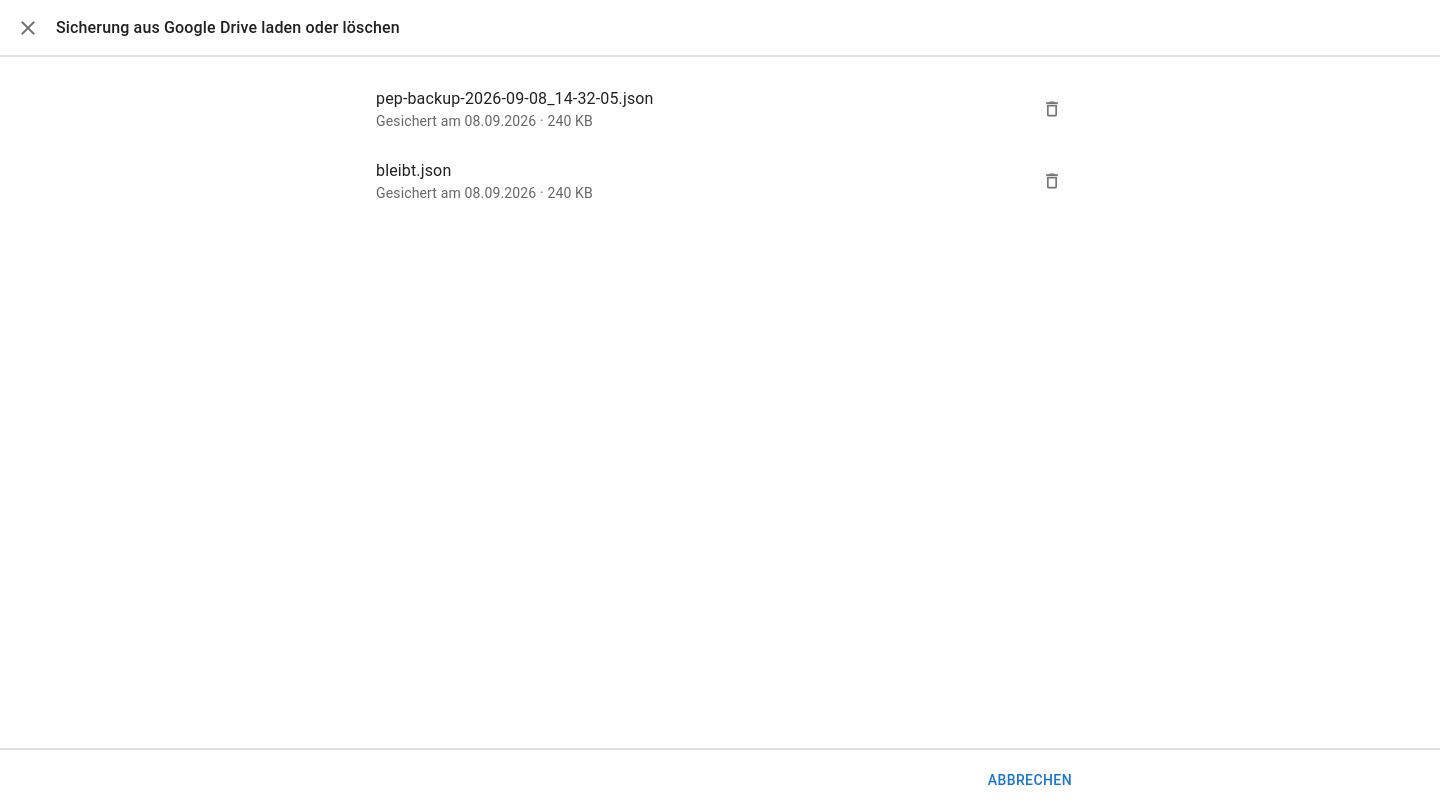
Scenario: DriveBackupDialog › deletes the confirmed backup and drops its row
Click the button named "pep-backup-2026-09-08_14-32-05.json löschen" at (1052, 109), box [1037,94,1067,124]
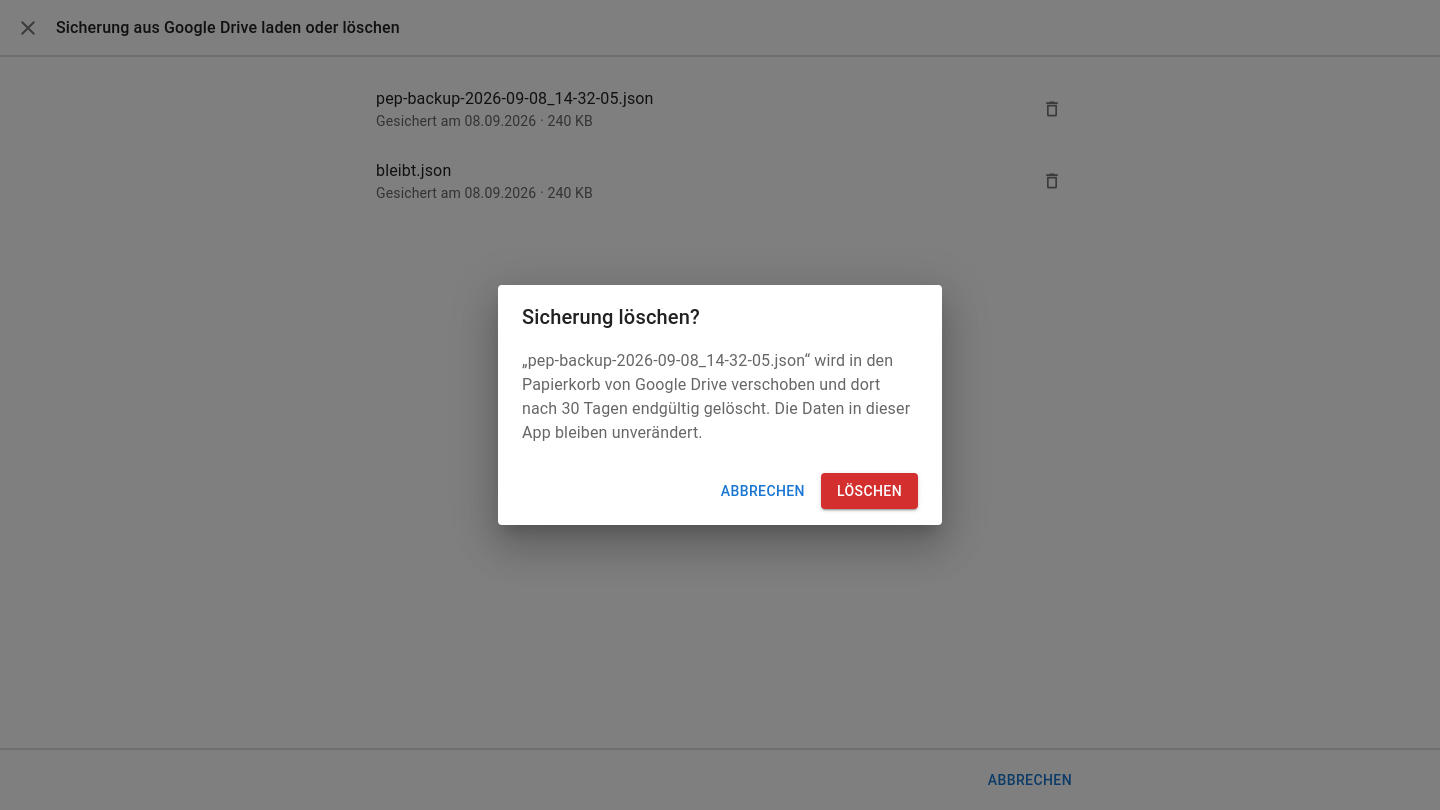
Click the button "Löschen" at (870, 491), box [821,473,918,509]
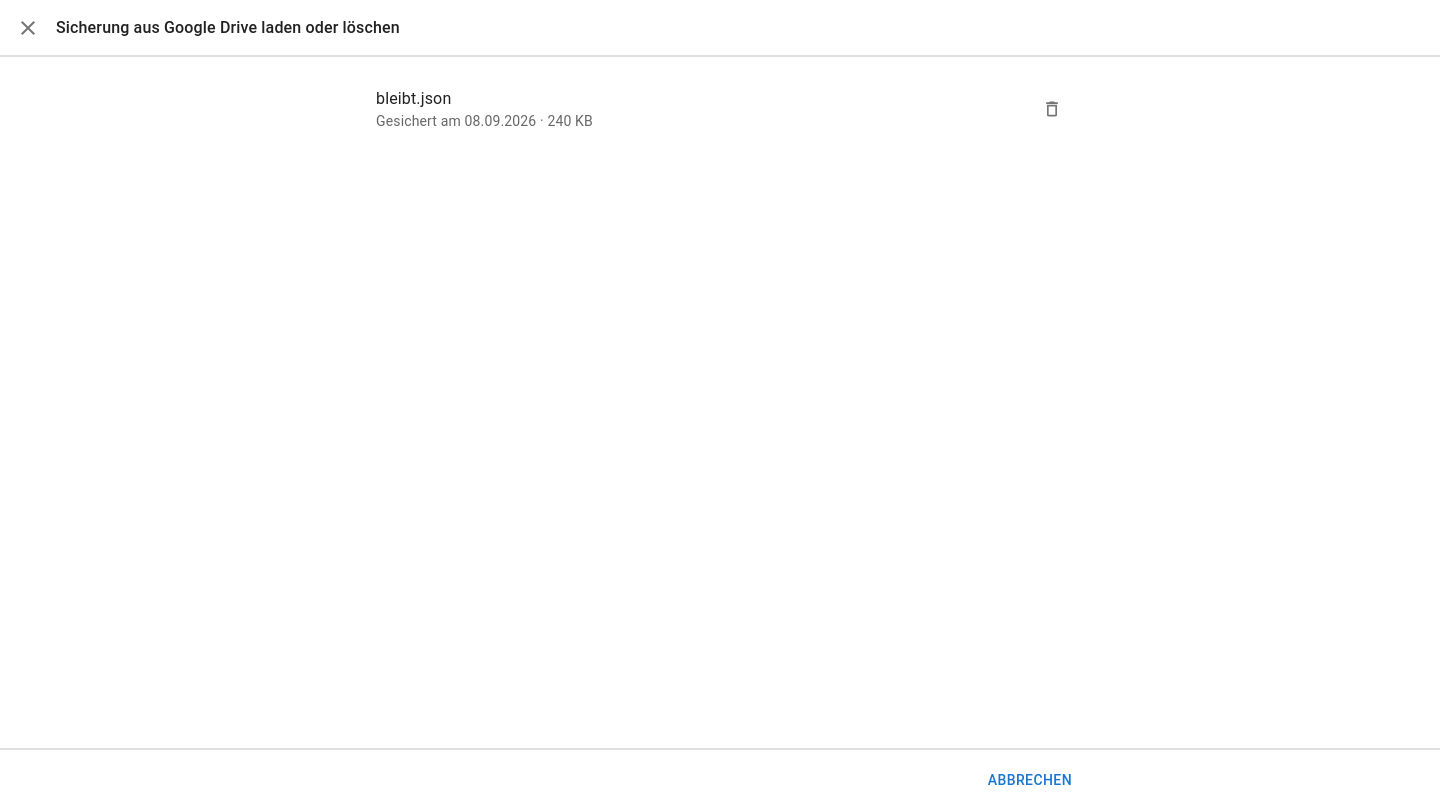
Check: the text "bleibt.json" is shown, box [376,89,451,108]
Check: the button "pep-backup-2026-09-08_14-32-05.json" is gone
